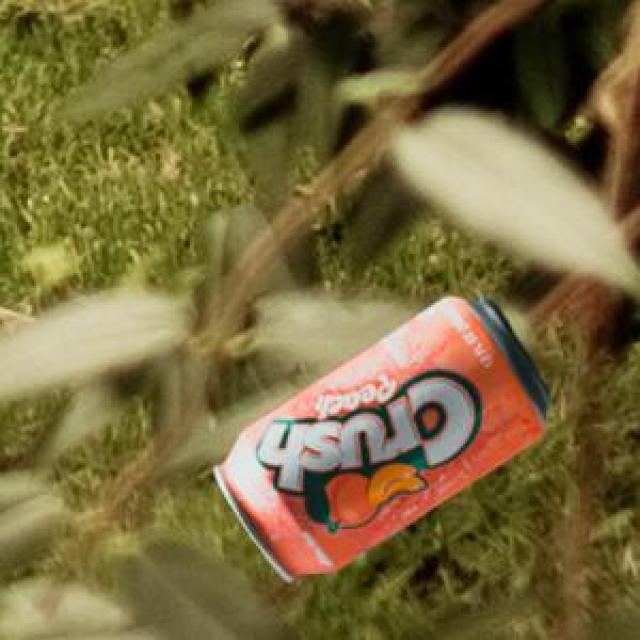logam: (210, 291, 547, 579)
